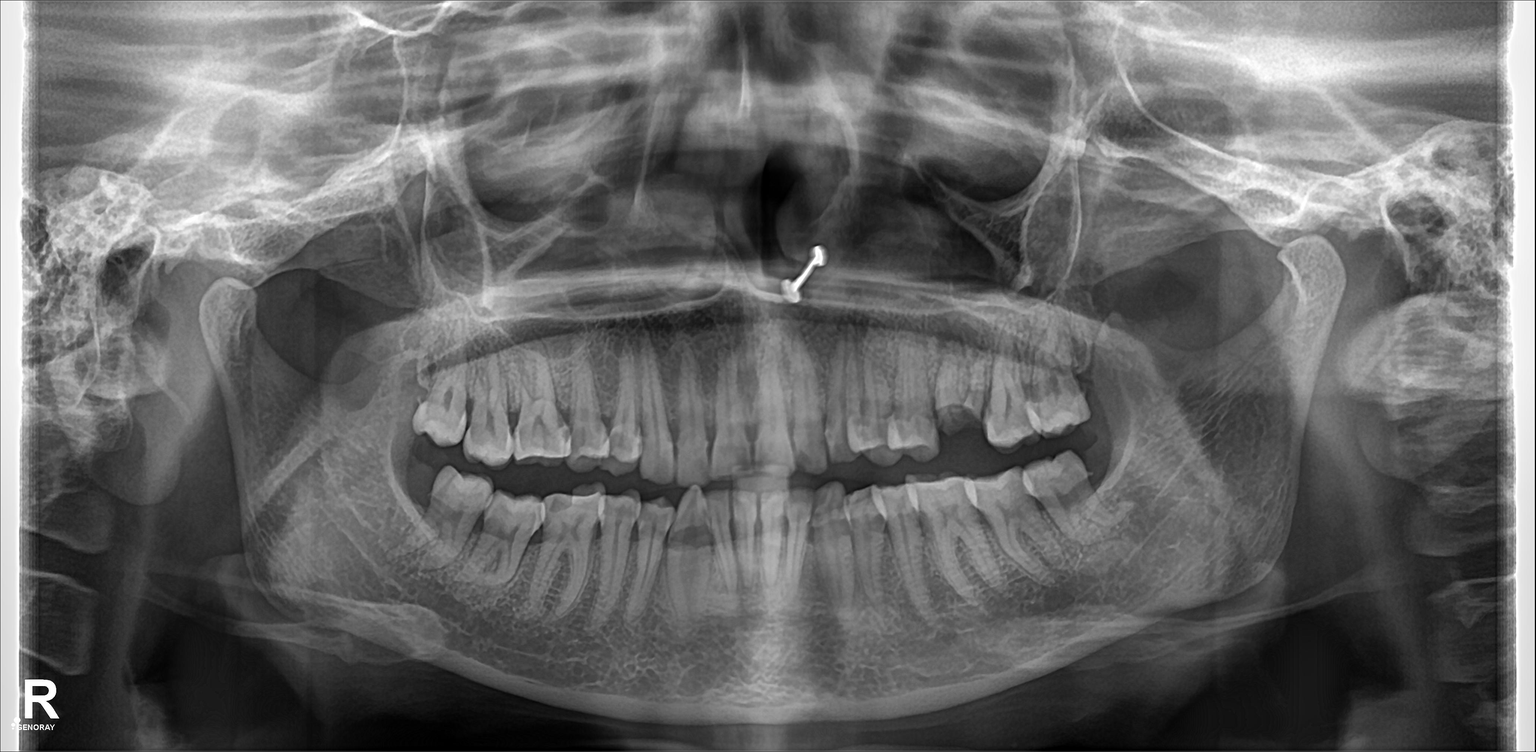Dental Caries: (669, 523, 720, 551)
Missing Tooth: (393, 445, 444, 518), (1080, 434, 1126, 490)
Tooth Fracture: (927, 359, 979, 448)
